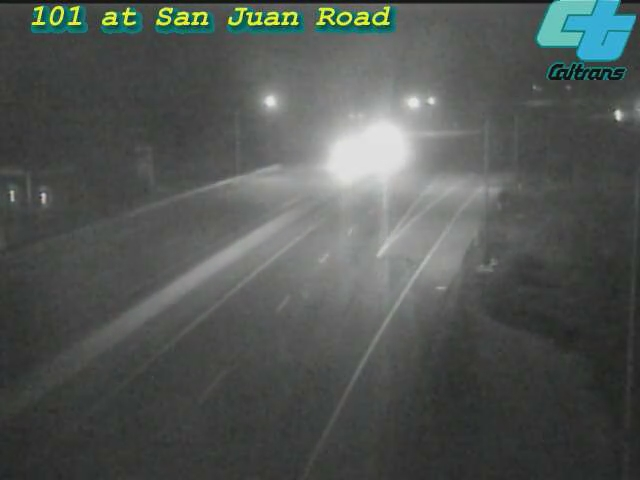vehicle: (315, 135, 365, 185), (350, 122, 400, 172), (595, 90, 640, 140)
